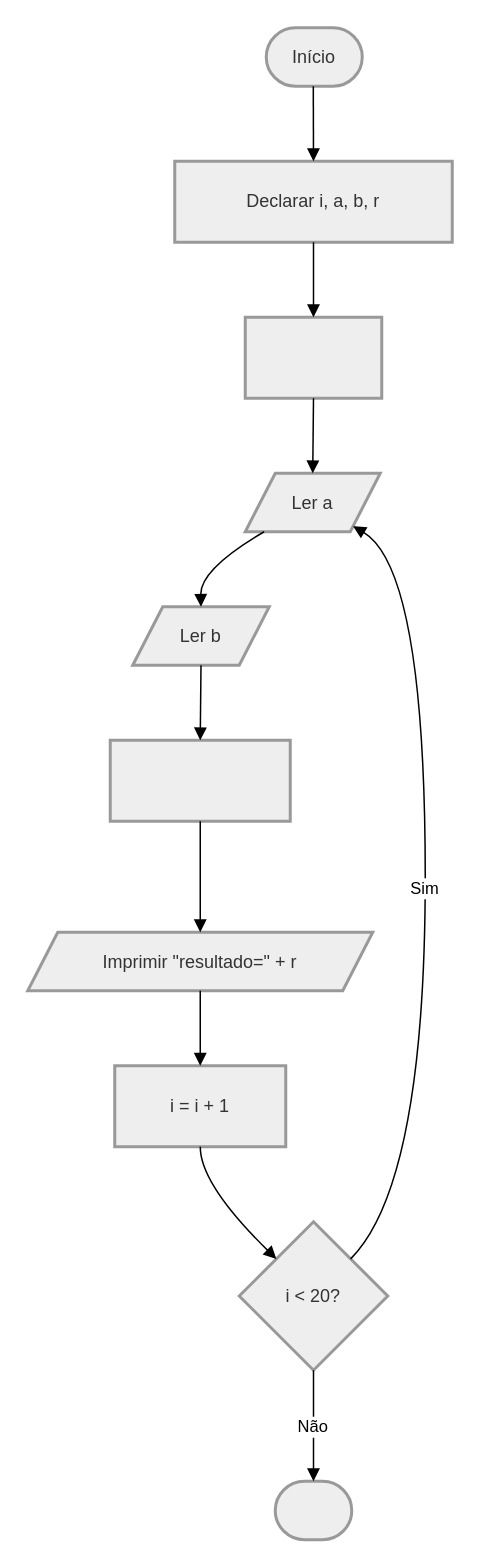
The diagram is 479 pixels wide and 1566 high, and some of its shapes have lost their labels. The centre of each missing label's shape, as x and y in pixels:
"Fim" goes at (x=312, y=1509).
"i = 0" goes at (x=312, y=357).
"r = a + b" goes at (x=199, y=780).
